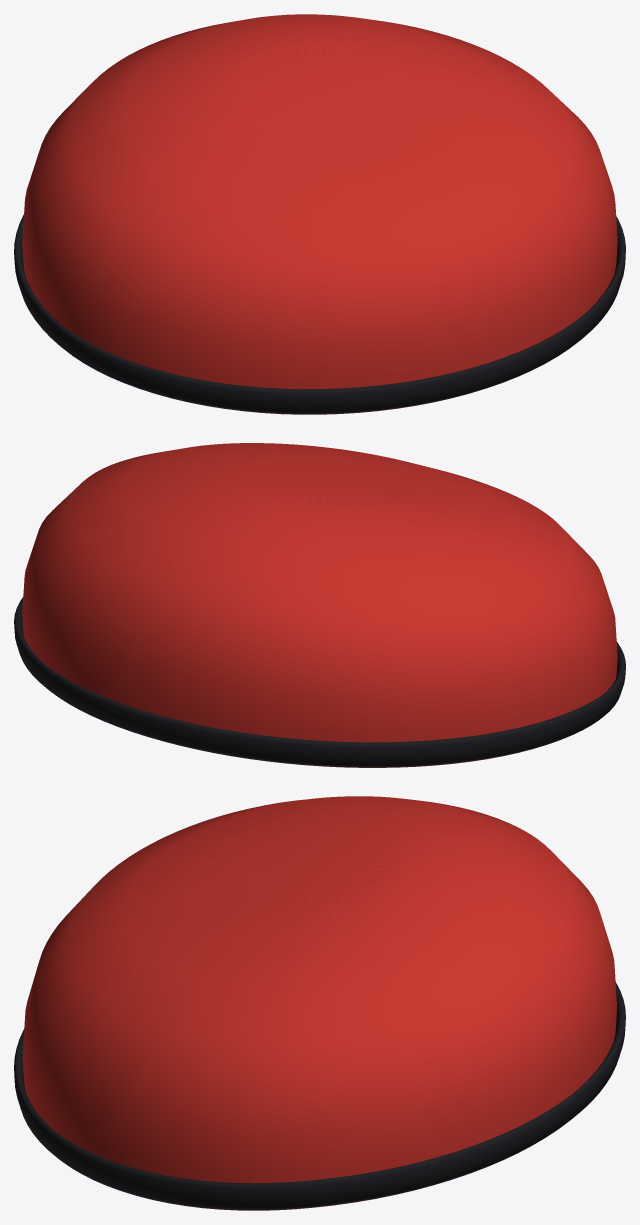
File: hw_svan.glb
3 views of the same model, one above another, from view 1: azimuth 30°, elevation 25°; view 2: azimuth 150°, elevation 25°; view 3: azimuth 270°, elevation 25° (orthographic). The views are drawn at different scales.
Parts seen in each view (by area): view 1: hw_svan, hw_svan_border; view 2: hw_svan, hw_svan_border; view 3: hw_svan, hw_svan_border.
Boxes of the visible parts, box(x1,y1,x2,y2) form: hw_svan: box(22, 14, 617, 414); hw_svan_border: box(14, 214, 625, 414); hw_svan: box(22, 443, 617, 767); hw_svan_border: box(14, 597, 625, 767); hw_svan: box(22, 796, 616, 1210); hw_svan_border: box(14, 982, 625, 1210).
Size of the model in its own units: 0.8526 by 0.3365 by 0.7665.
